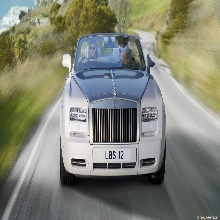no damage: (59, 32, 167, 185)
